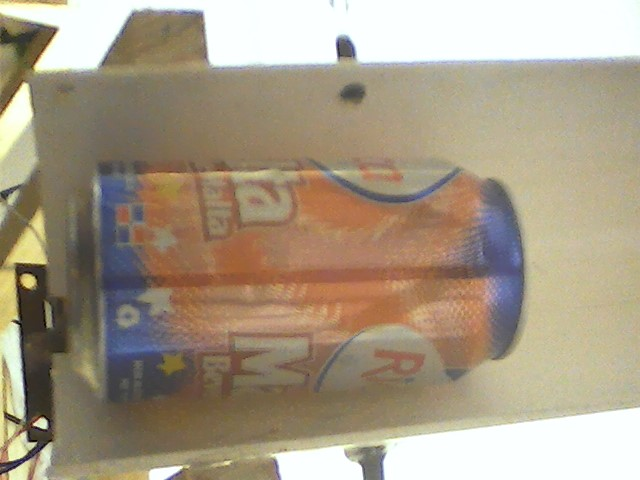lata: (61, 154, 536, 404)
